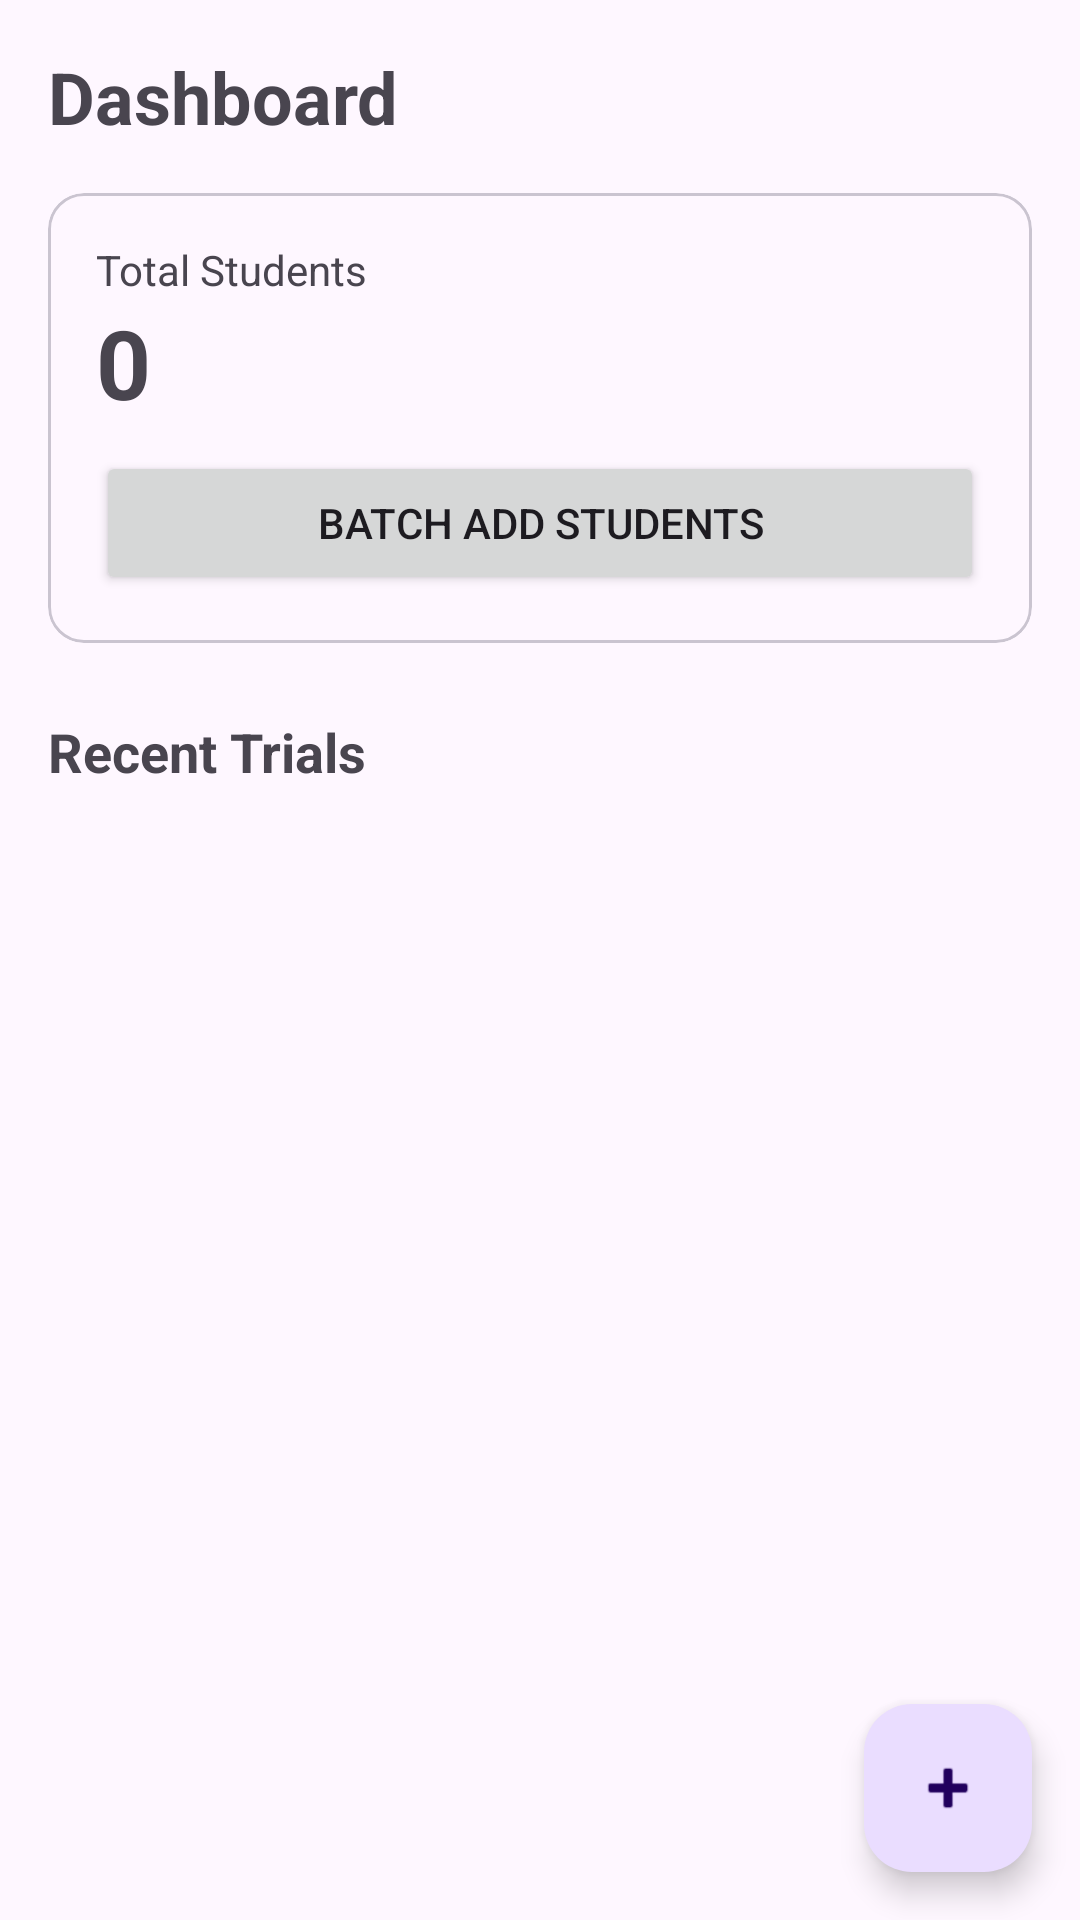

Named icons in this screenshot (1080 × 1920) and their bounding boxes, (x1, y1, x2, y2):
Add Student: (864, 1704, 1032, 1872)
